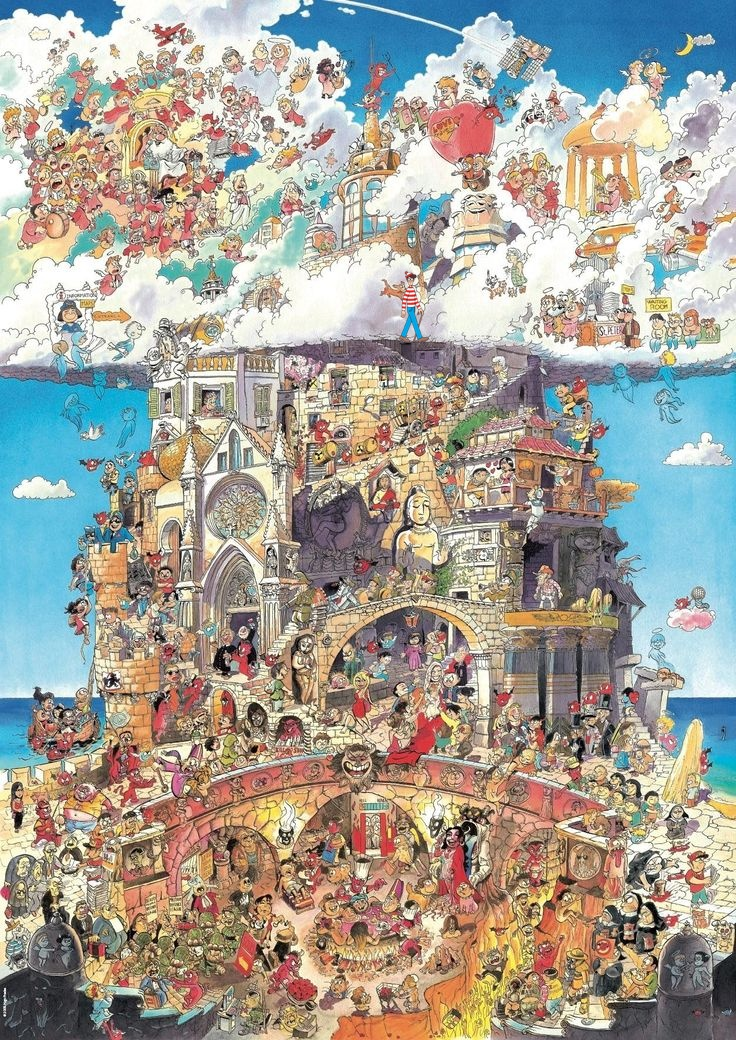waldo: (399, 271, 429, 343)
